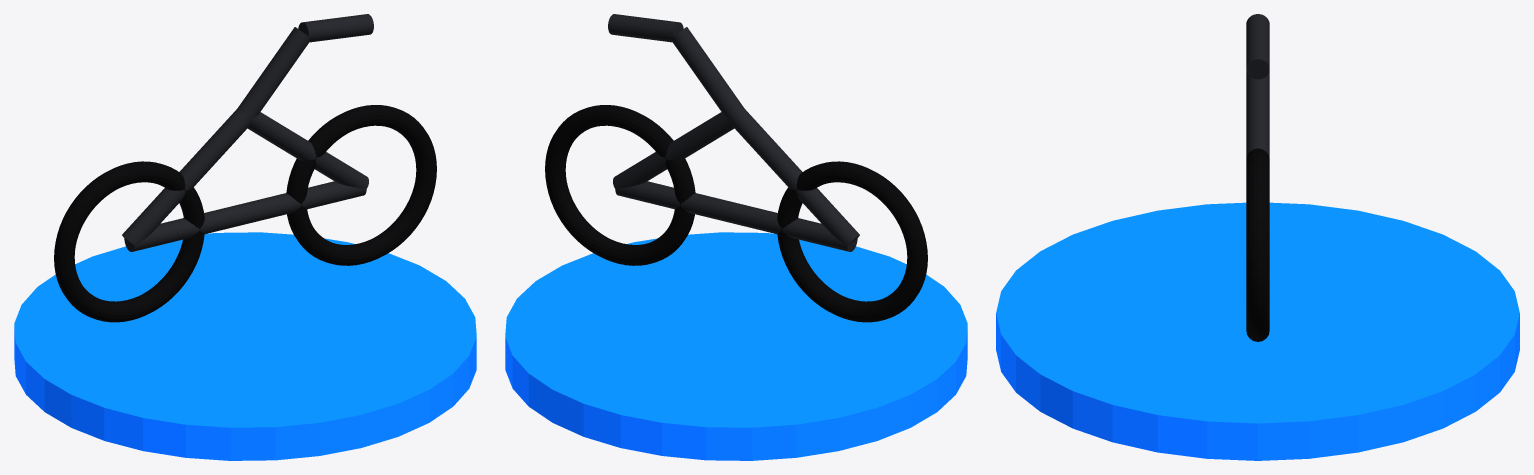
Rendered from french_bicycle.dae.
3 views of the same model, side by side, from view 1: azimuth 30°, elevation 25°; view 2: azimuth 150°, elevation 25°; view 3: azimuth 270°, elevation 25° (orthographic). The views are drawn at different scales.
Parts seen in each view (by area): view 1: 10_09_Popular_French_Bicycle_ROOT_base, 10_09_Popular_French_Bicycle_part_01, 10_09_Popular_French_Bicycle_part_02, 10_09_Popular_French_Bicycle_part_05, 10_09_Popular_French_Bicycle_part_03, 10_09_Popular_French_Bicycle_part_04, 10_09_Popular_French_Bicycle_part_06, 10_09_Popular_French_Bicycle_part_07; view 2: 10_09_Popular_French_Bicycle_ROOT_base, 10_09_Popular_French_Bicycle_part_01, 10_09_Popular_French_Bicycle_part_02, 10_09_Popular_French_Bicycle_part_05, 10_09_Popular_French_Bicycle_part_03, 10_09_Popular_French_Bicycle_part_04, 10_09_Popular_French_Bicycle_part_06, 10_09_Popular_French_Bicycle_part_07; view 3: 10_09_Popular_French_Bicycle_ROOT_base, 10_09_Popular_French_Bicycle_part_02, 10_09_Popular_French_Bicycle_part_04, 10_09_Popular_French_Bicycle_part_07.
Boxes of the visible parts, x1,y1,x2,y2 form: 10_09_Popular_French_Bicycle_ROOT_base: [14, 232, 476, 460]; 10_09_Popular_French_Bicycle_part_01: [54, 161, 204, 322]; 10_09_Popular_French_Bicycle_part_02: [286, 105, 436, 265]; 10_09_Popular_French_Bicycle_part_05: [124, 181, 366, 251]; 10_09_Popular_French_Bicycle_part_03: [122, 108, 250, 245]; 10_09_Popular_French_Bicycle_part_04: [247, 112, 368, 188]; 10_09_Popular_French_Bicycle_part_06: [237, 27, 309, 118]; 10_09_Popular_French_Bicycle_part_07: [298, 14, 373, 42]; 10_09_Popular_French_Bicycle_ROOT_base: [505, 232, 967, 460]; 10_09_Popular_French_Bicycle_part_01: [777, 161, 927, 322]; 10_09_Popular_French_Bicycle_part_02: [545, 105, 695, 265]; 10_09_Popular_French_Bicycle_part_05: [615, 181, 857, 251]; 10_09_Popular_French_Bicycle_part_03: [731, 108, 859, 245]; 10_09_Popular_French_Bicycle_part_04: [613, 112, 734, 188]; 10_09_Popular_French_Bicycle_part_06: [672, 27, 744, 118]; 10_09_Popular_French_Bicycle_part_07: [608, 14, 683, 42]; 10_09_Popular_French_Bicycle_ROOT_base: [996, 202, 1519, 460]; 10_09_Popular_French_Bicycle_part_02: [1246, 148, 1269, 341]; 10_09_Popular_French_Bicycle_part_04: [1246, 72, 1269, 158]; 10_09_Popular_French_Bicycle_part_07: [1246, 14, 1269, 79].
Bounding box in the file's own units: 0.76 × 0.5893 × 0.76.
